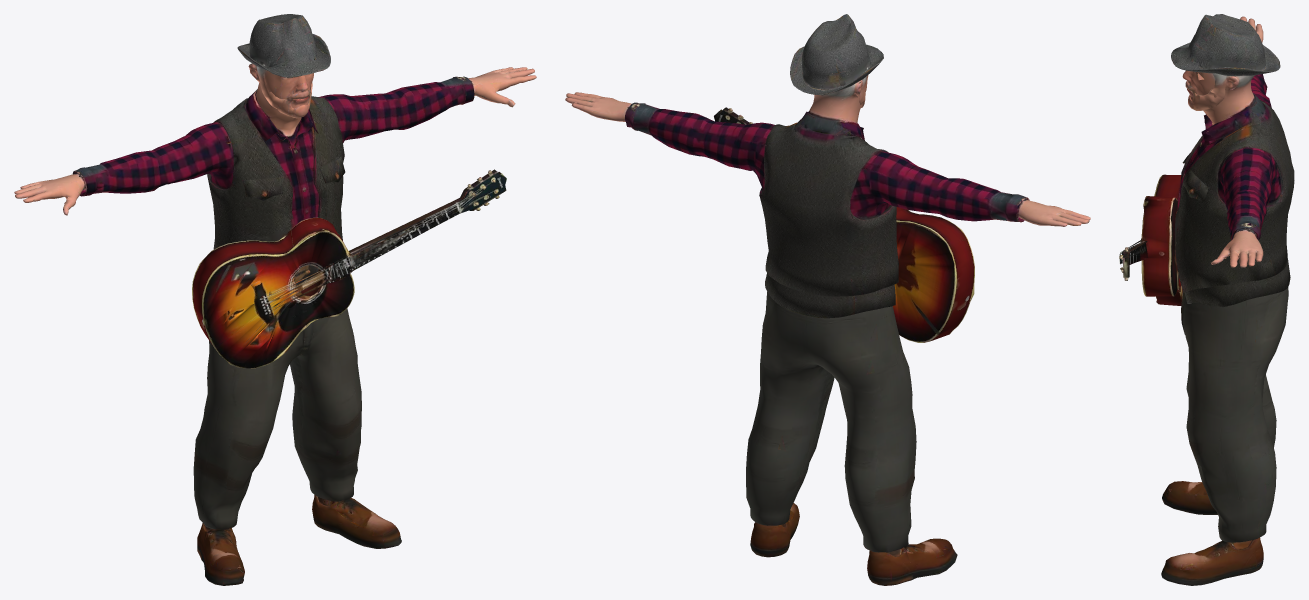
Rendered from street-musician.glb.
The picture shows the model from 3 angles, left to right: view 1: azimuth 30°, elevation 25°; view 2: azimuth 150°, elevation 25°; view 3: azimuth 270°, elevation 25°; orthographic projection. The views are drawn at different scales.
Size of the model in its own units: 0.9468 by 0.9375 by 0.2808.
1 material, 1 textured.
